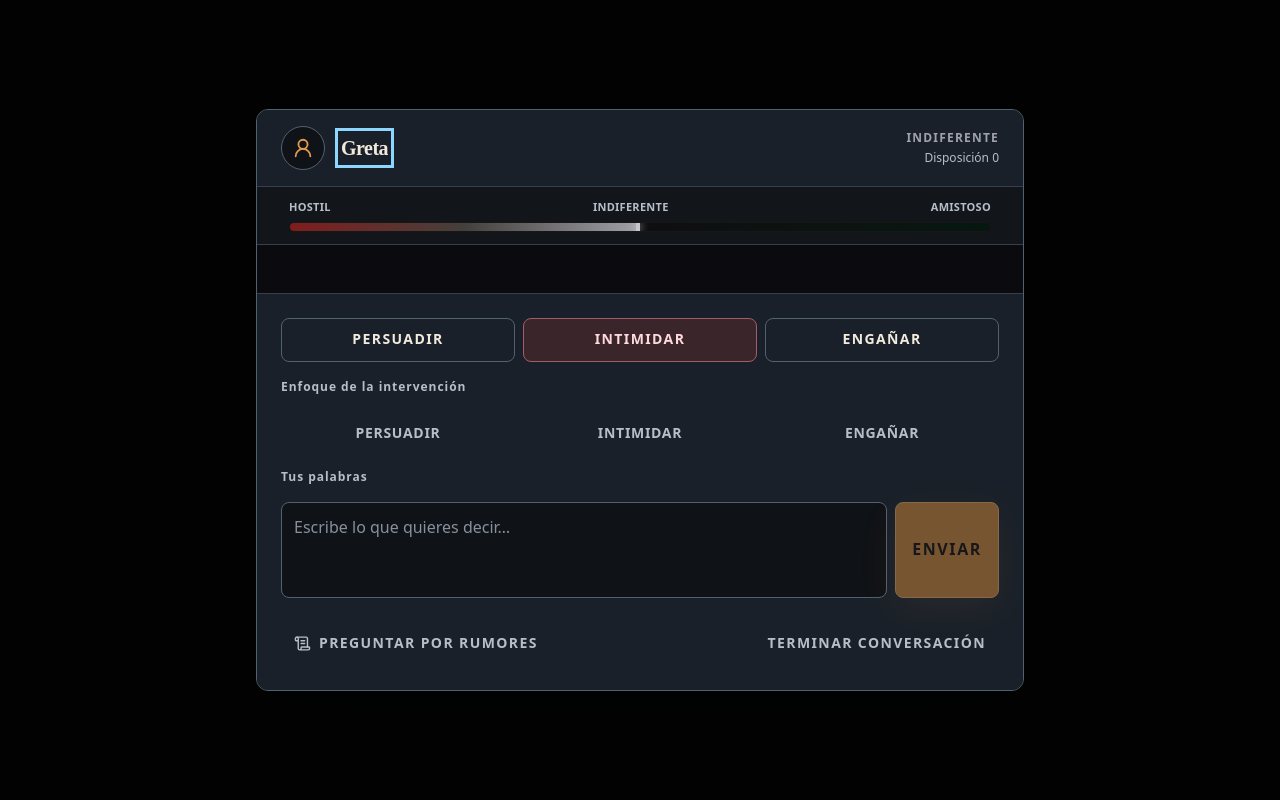
it: DialogueOverlayController — rumours › shows the NPC's refusal rather than an empty list
Click the button "Preguntar por rumores". click: {"x": 416, "y": 644}
box: [281,622,551,666]
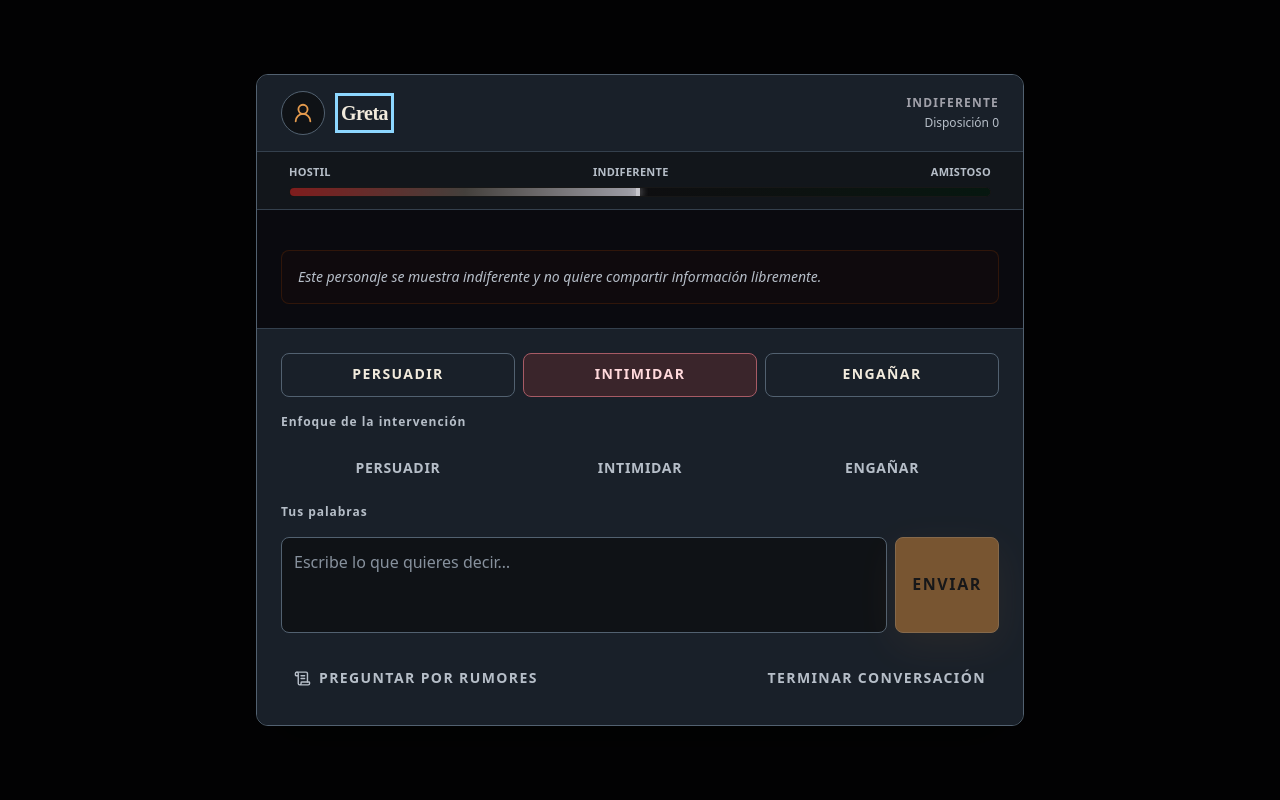
Expected: the text "no quiere compartir información libremente" is shown, [298,267,821,286]
